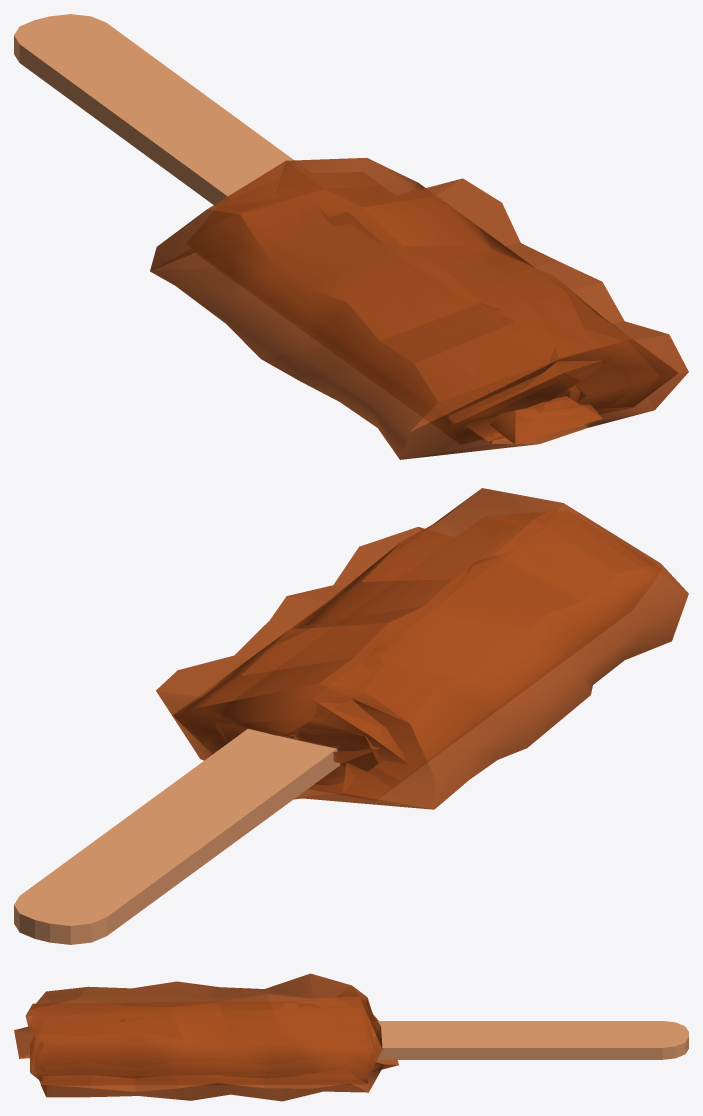
The model's file is Taffy_TFSGJ_Spring2025.fbx.
3 renders of one model, top to bottom at view 1: azimuth 30°, elevation 25°; view 2: azimuth 150°, elevation 25°; view 3: azimuth 270°, elevation 25°, orthographic. The views are drawn at different scales.
Parts seen in each view (by area): view 1: Spiral; view 2: Spiral; view 3: Spiral.
Part boxes in pixels (x1,y1,x2,y2): Spiral: (14,14,688,459); Spiral: (14,488,688,944); Spiral: (14,973,688,1101).
Bounding box in the file's own units: 5.51 × 2.18 × 16.43.
